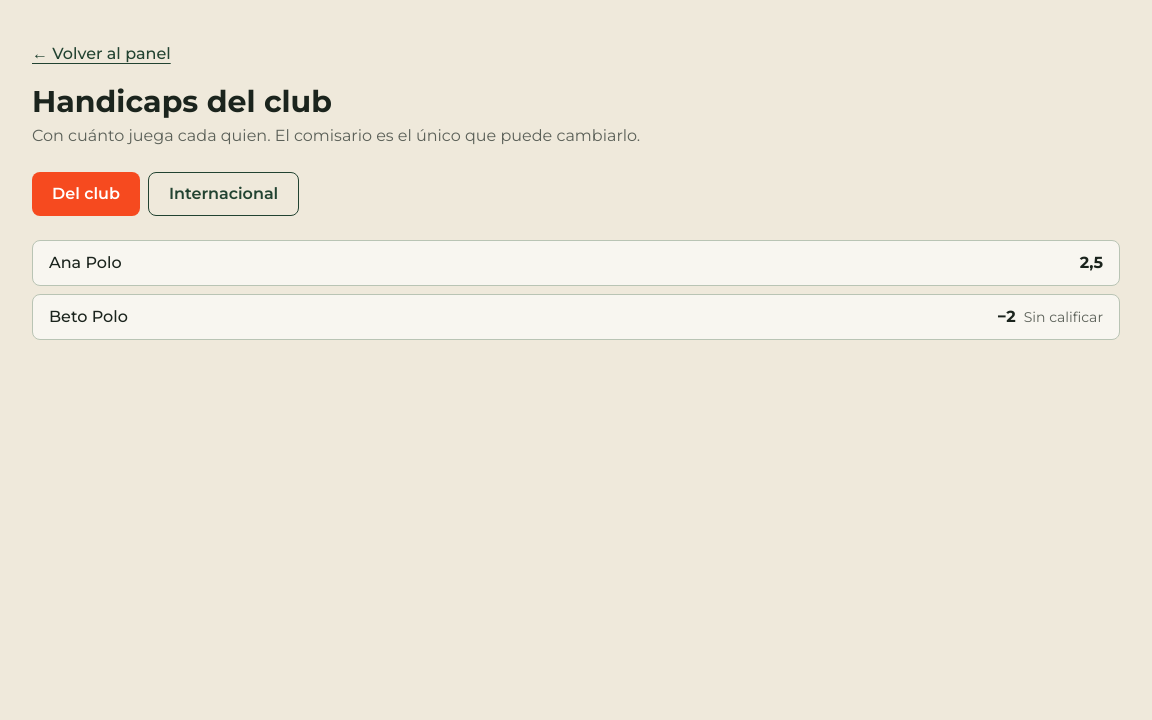
Handicaps del club (T-343) › es la puerta de entrada del comisario, que NO puede abrir el listado de usuarios
Click the button "Ana Polo 2,5" at (85, 262), box [33,241,1119,285]
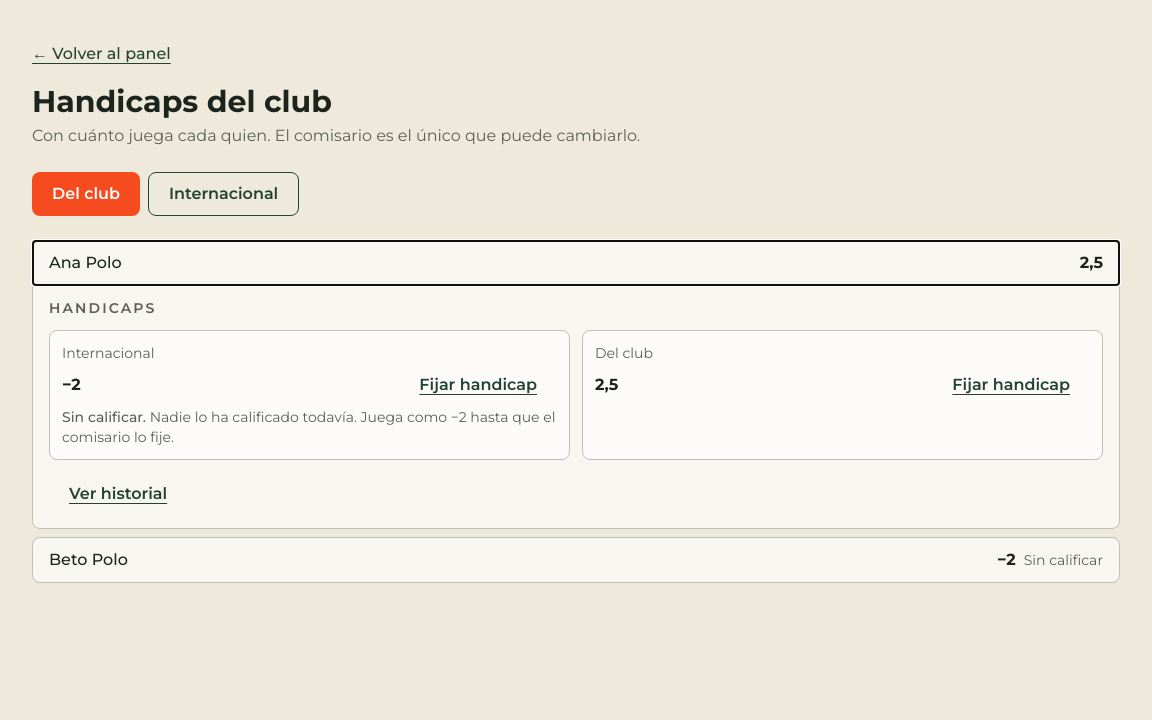
Now the number of buttons "Fijar handicap" is 2, box [399,363,557,407]; [932,363,1090,407]
